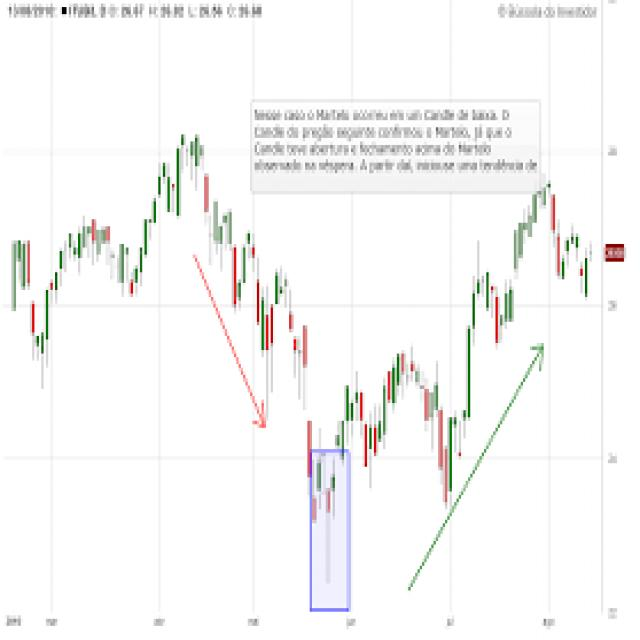oco_inv: (257, 231, 514, 616)
